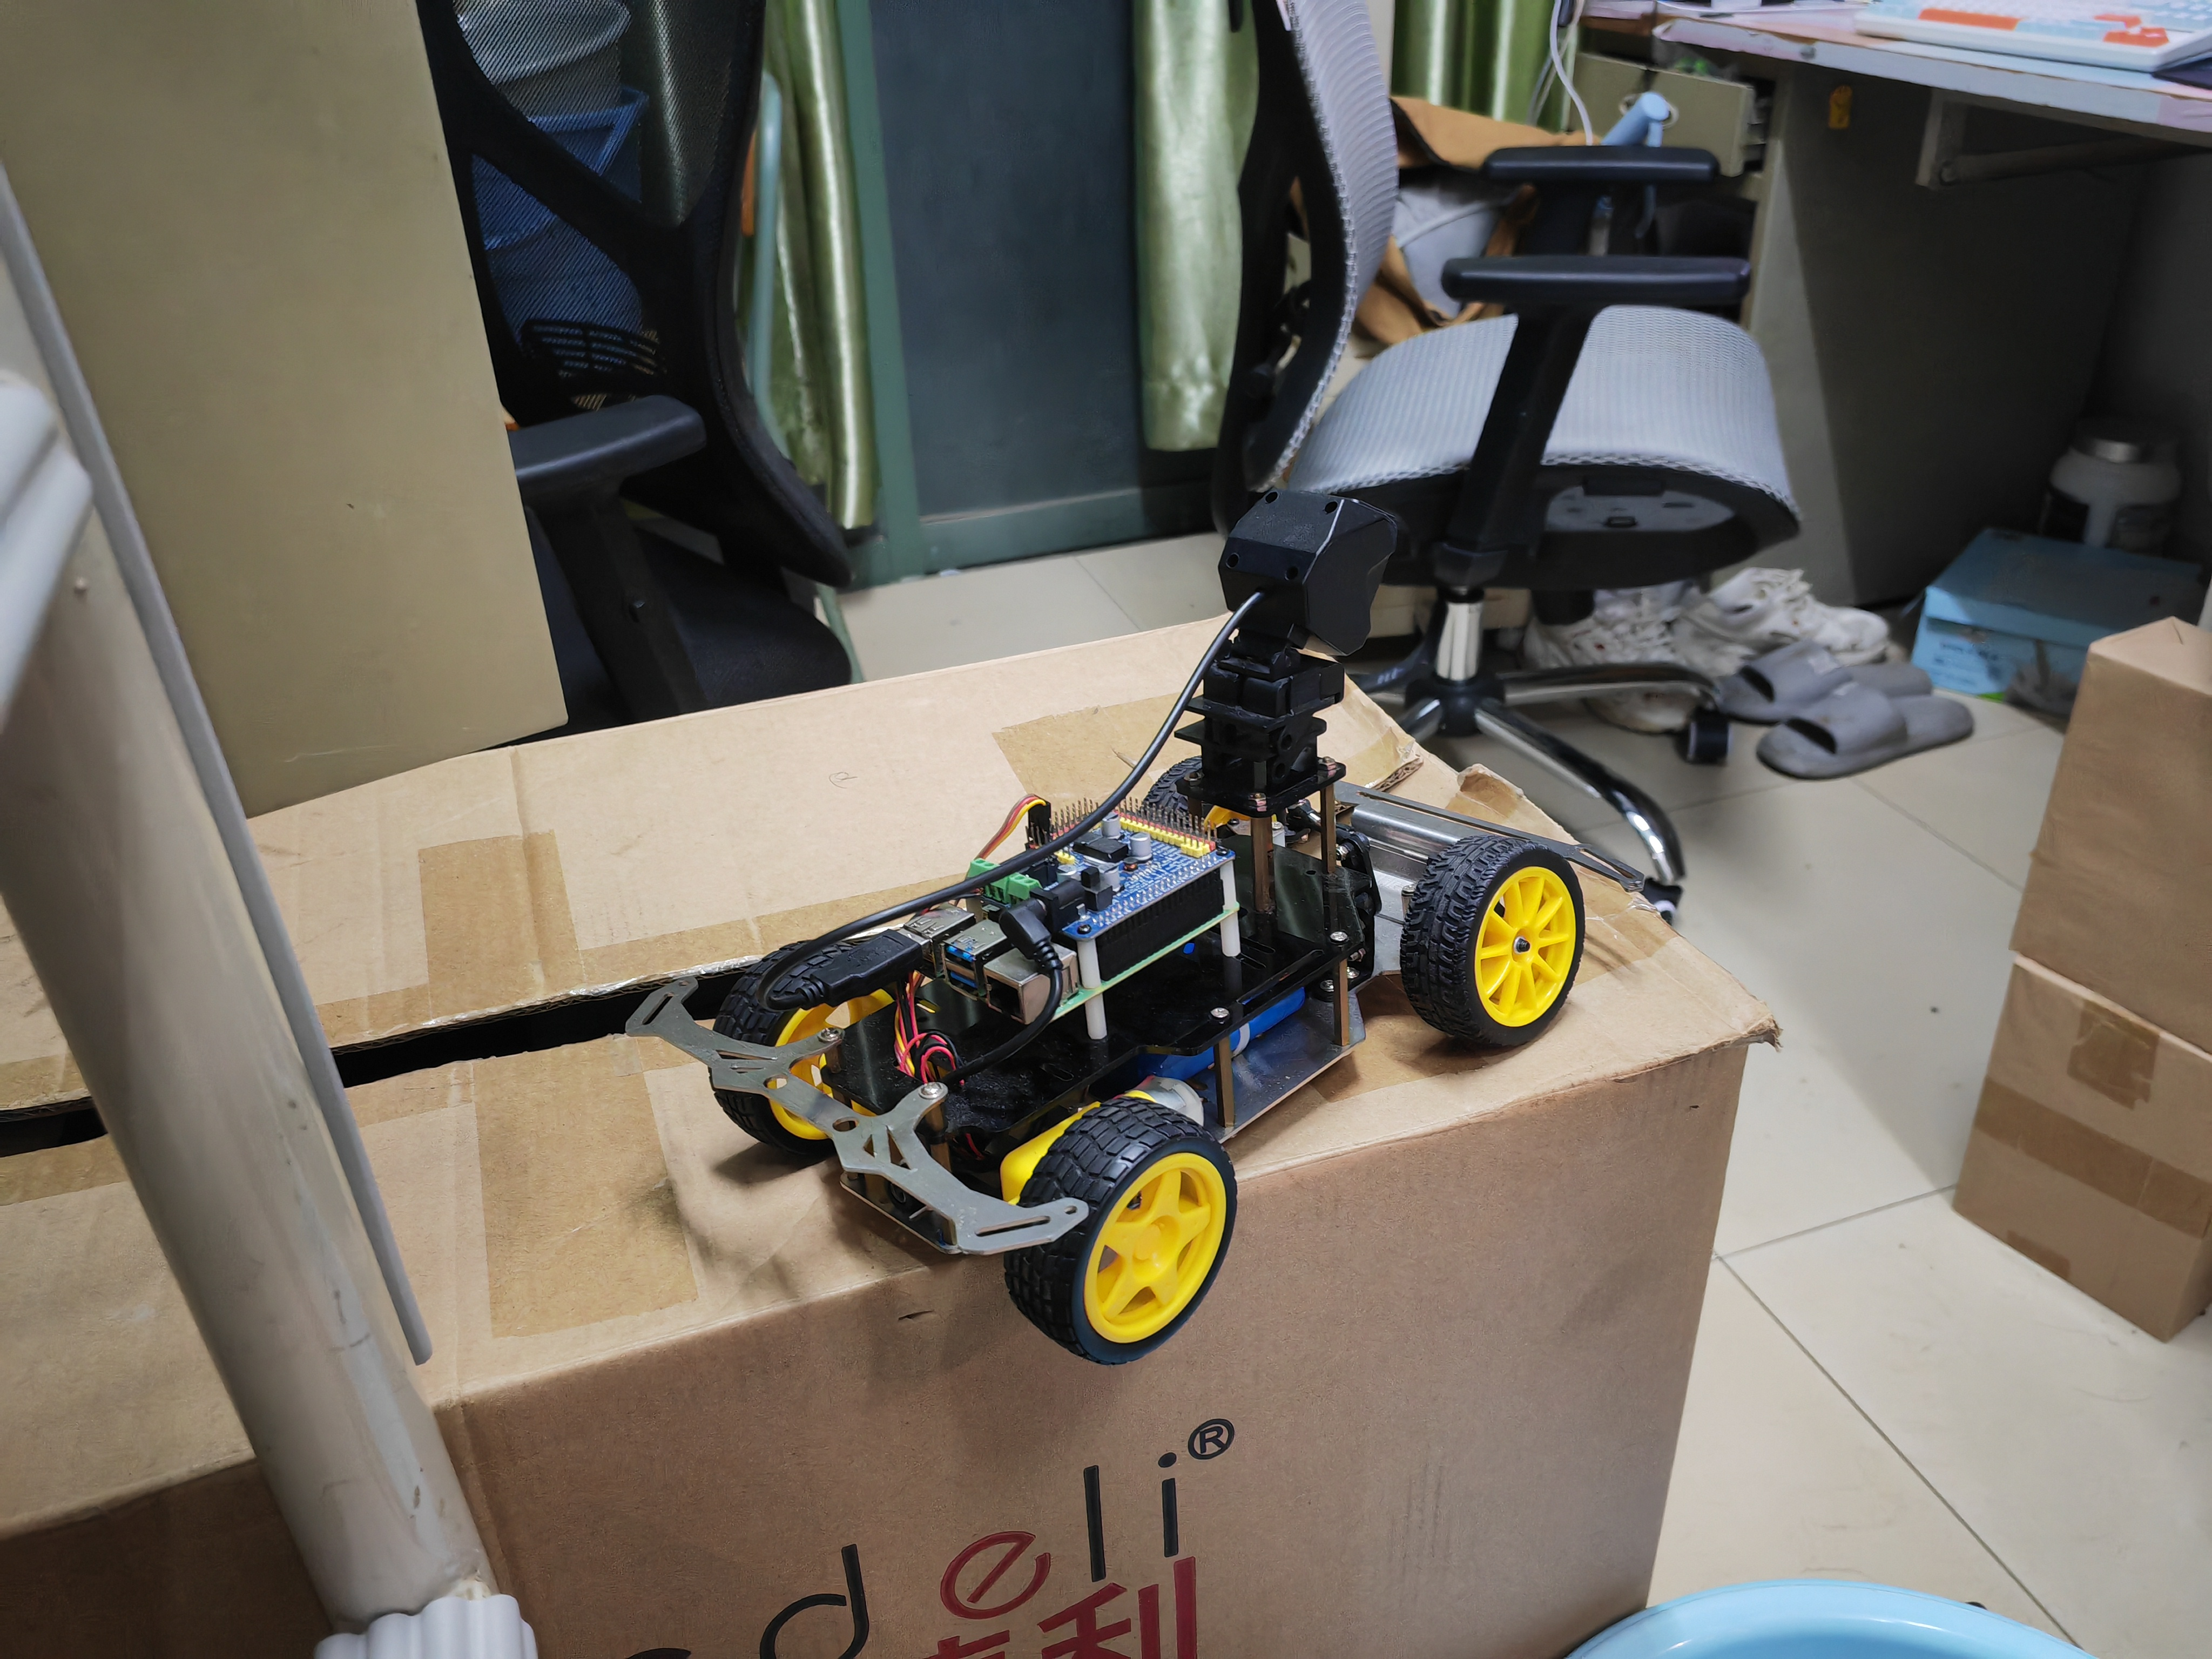car: (622, 472, 1710, 1387)
